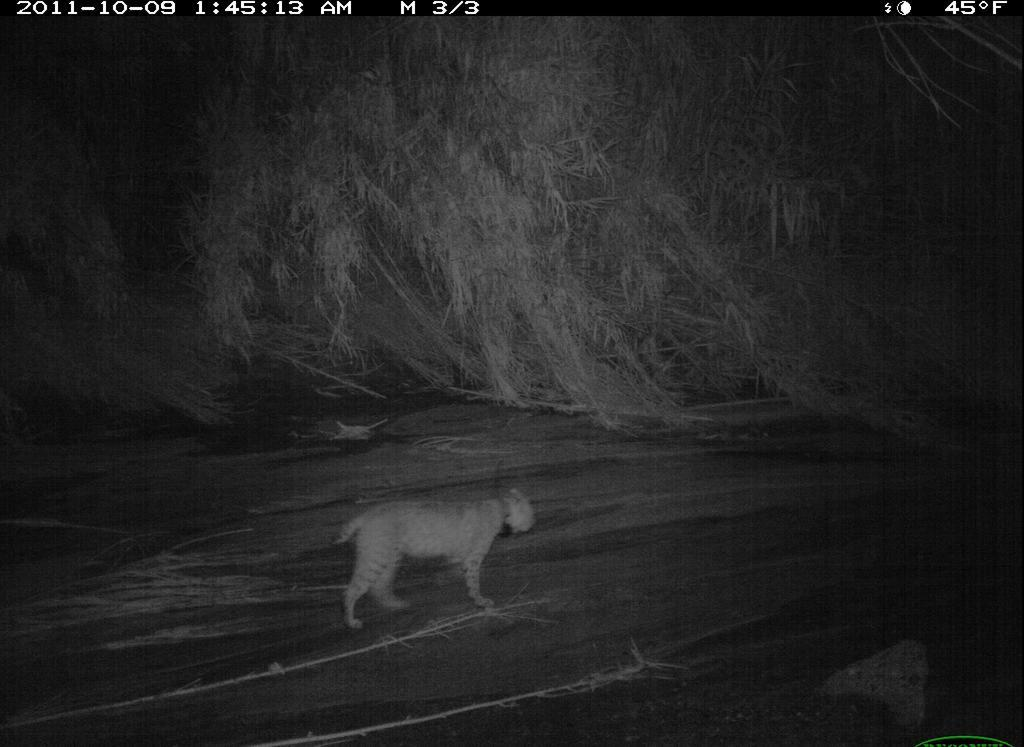bobcat: (332, 484, 542, 633)
